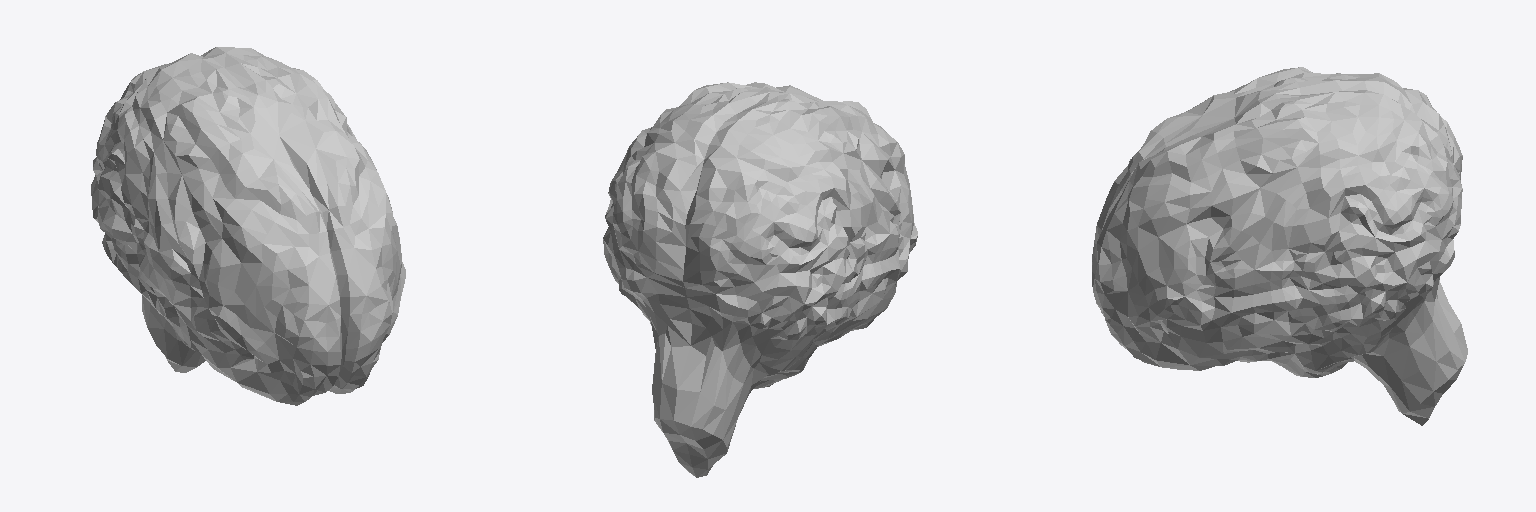
The model's file is brain obj.OBJ.
The picture shows the model from 3 angles: view 1: azimuth 30°, elevation 25°; view 2: azimuth 150°, elevation 25°; view 3: azimuth 270°, elevation 25°; orthographic projection.
Visible parts, largest first — view 1: Group1; view 2: Group1; view 3: Group1.
Boxes of the visible parts, box(x1,y1,x2,y2) form: Group1: box(91, 47, 405, 405); Group1: box(603, 82, 917, 477); Group1: box(1092, 67, 1467, 425).
Size of the model in its own units: 1.8 by 2.52 by 2.54.